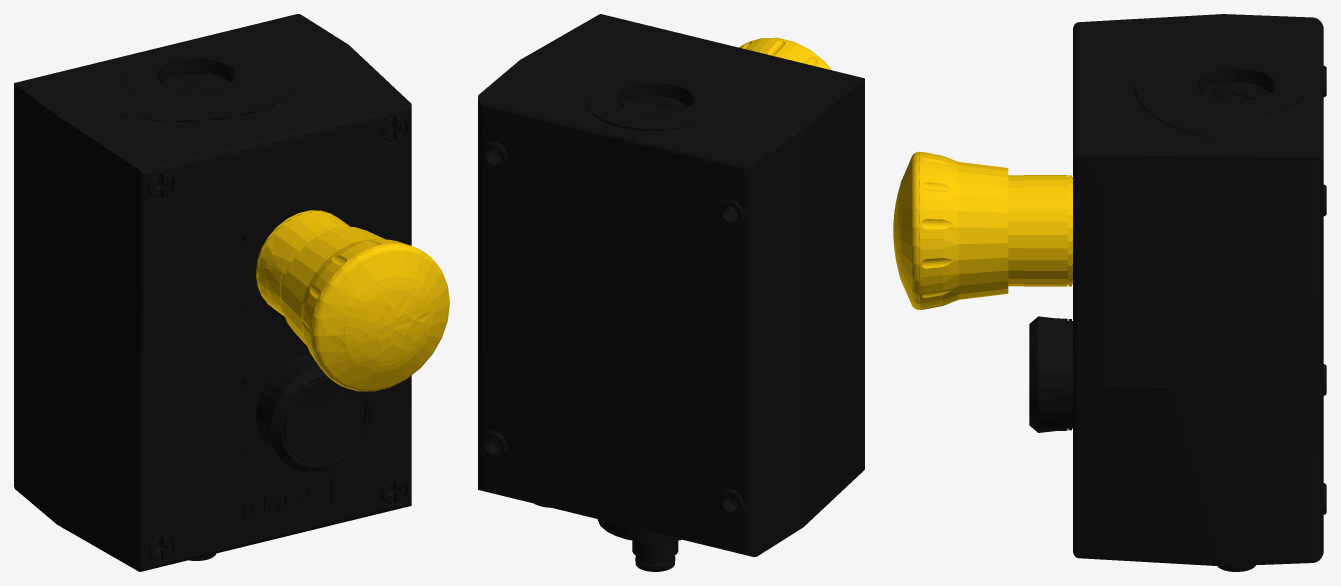
Rendered from Sledzis_Dae.dae.
3 renders of one model, left to right at view 1: azimuth 30°, elevation 25°; view 2: azimuth 150°, elevation 25°; view 3: azimuth 270°, elevation 25°, orthographic. The views are drawn at different scales.
Parts seen in each view (by area): view 1: node2, node0, node1; view 2: node2, node0; view 3: node2, node0, node1.
Part boxes in pixels (left/top/right/bottom): node2: left=14, top=14, right=411, bottom=571; node0: left=256, top=210, right=449, bottom=391; node1: left=256, top=354, right=371, bottom=471; node2: left=478, top=14, right=864, bottom=571; node0: left=739, top=37, right=831, bottom=70; node2: left=1073, top=14, right=1326, bottom=571; node0: left=893, top=151, right=1072, bottom=309; node1: left=1029, top=316, right=1072, bottom=432.
Size of the model in its own units: 0.085 by 0.1093 by 0.133.
